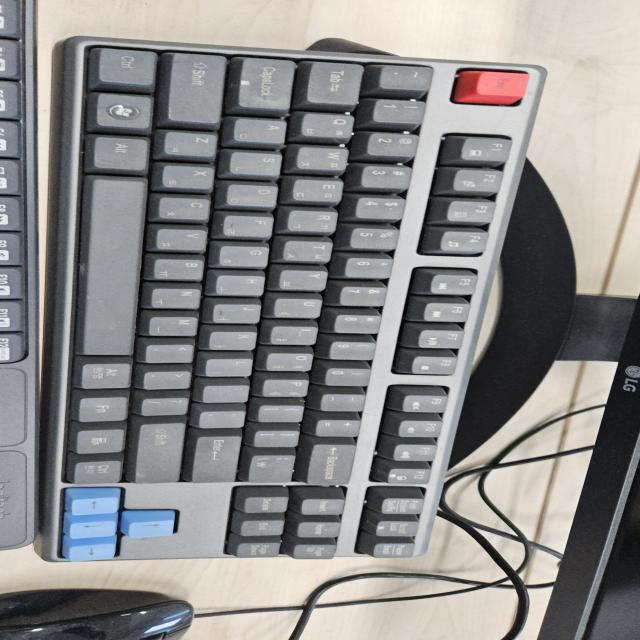Keyboard: (21, 30, 548, 562)
Mouse: (1, 586, 197, 638)
